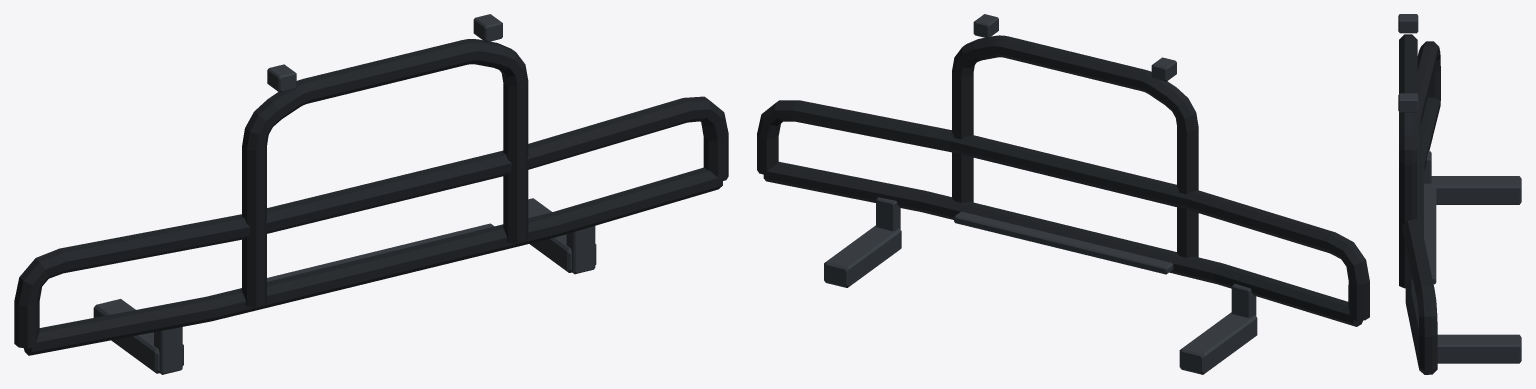
File: ridgeback_4x4_bull_bar.glb
The picture shows the model from 3 angles, left to right: view 1: azimuth 30°, elevation 25°; view 2: azimuth 150°, elevation 25°; view 3: azimuth 270°, elevation 25°; orthographic projection. The views are drawn at different scales.
Visible parts, largest first — view 1: model; view 2: model; view 3: model.
Part boxes in pixels (x1,y1,x2,y2): model: (14,14,728,374); model: (757,14,1369,374); model: (1398,14,1521,374).
Size of the model in its own units: 1.94 by 0.7384 by 0.3699.
1 material, 1 textured.
